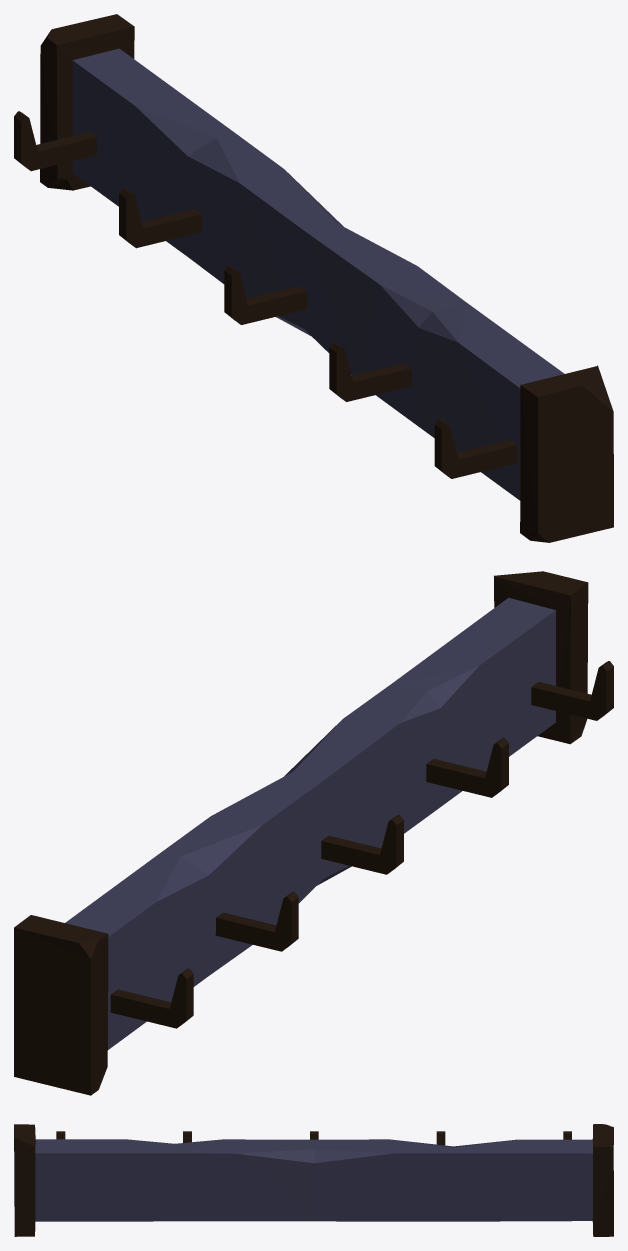
File: SFFA_Tool_Stand_004.fbx
The picture shows the model from 3 angles, top to bottom: view 1: azimuth 30°, elevation 25°; view 2: azimuth 150°, elevation 25°; view 3: azimuth 270°, elevation 25°; orthographic projection. The views are drawn at different scales.
Visible parts, largest first — view 1: SFFA_Tool_Stand_004; view 2: SFFA_Tool_Stand_004; view 3: SFFA_Tool_Stand_004.
Part boxes in pixels (x1,y1,x2,y2): SFFA_Tool_Stand_004: (14, 14, 613, 542); SFFA_Tool_Stand_004: (14, 571, 613, 1095); SFFA_Tool_Stand_004: (14, 1124, 613, 1236).
Bounding box in the file's own units: 15.28 × 15.89 × 95.33.
